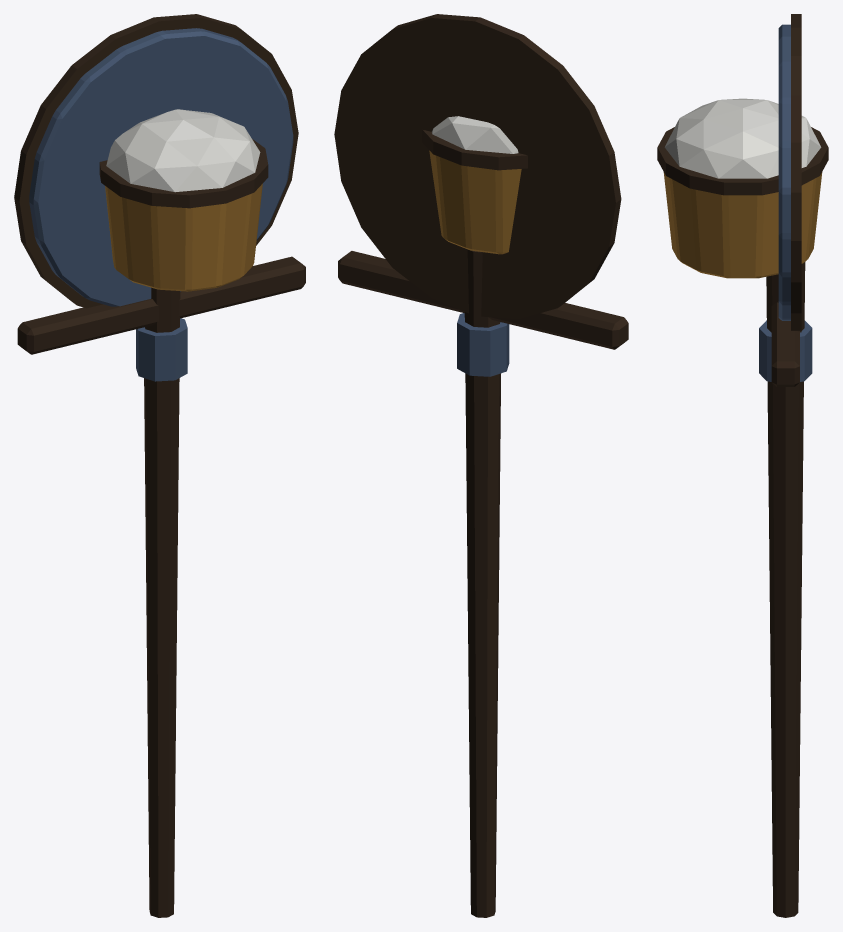
Rendered from sign_salt.glb.
3 views of the same model, side by side, from view 1: azimuth 30°, elevation 25°; view 2: azimuth 150°, elevation 25°; view 3: azimuth 270°, elevation 25° (orthographic).
Parts seen in each view (by area): view 1: sign_salt; view 2: sign_salt; view 3: sign_salt.
Part boxes in pixels (box(x1,y1,x2,y2)): sign_salt: box(14, 14, 305, 917); sign_salt: box(334, 14, 628, 917); sign_salt: box(657, 14, 828, 917).
Bounding box in the file's own units: 1.39 × 4.25 × 0.744.
